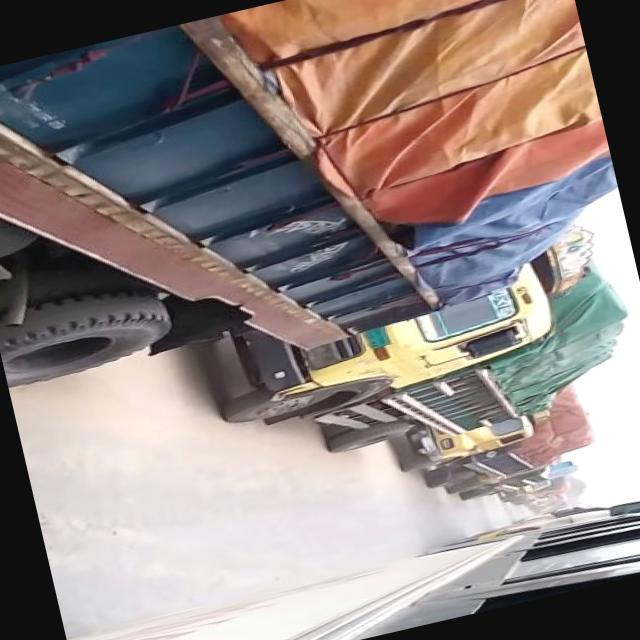bus: (69, 489, 640, 640)
truck: (0, 0, 637, 417), (201, 220, 640, 487), (388, 379, 598, 502), (462, 468, 555, 505)
